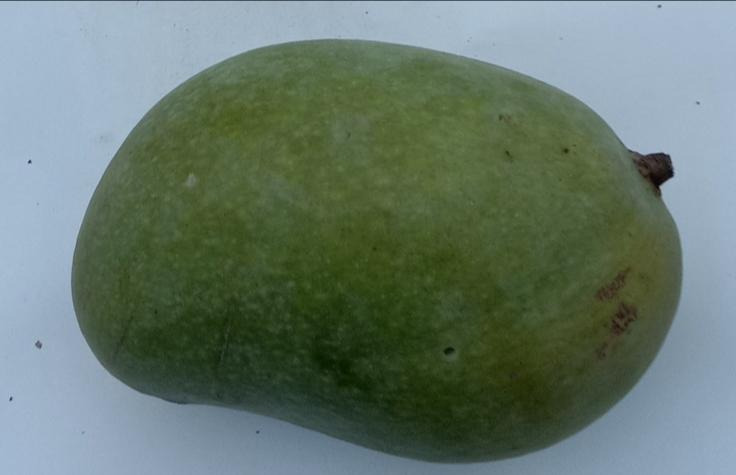Mango Unripe: (47, 10, 692, 469)
